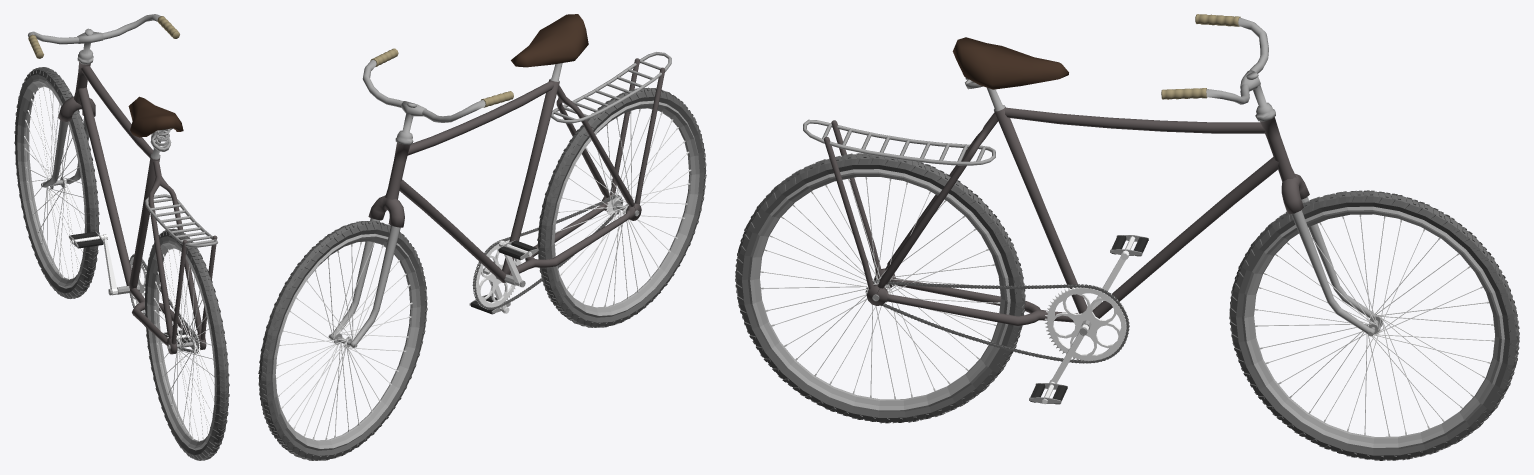
Rendered from bicycle_01.glb.
3 views of the same model, side by side, from view 1: azimuth 30°, elevation 25°; view 2: azimuth 150°, elevation 25°; view 3: azimuth 270°, elevation 25° (orthographic). The views are drawn at different scales.
Parts seen in each view (by area): view 1: Bicycle-Body, Bicycle-Front-Tire-Ring, Bicycle-Back-Tire, Bicycle-Back-Tire-Ring, Bicycle-Front-Tire, Bicycle-Back-Tire-Pattern, Bicycle-Front-Tire-Pattern, Bicycle-Seat, Bicycle-Tark, Bicycle-HandleBars, Bicycle-Left-Front-Spokes-Mesh1, Bicycle-Left-Front-Spokes-Mesh2 (+12 smaller); view 2: Bicycle-Body, Bicycle-Front-Tire, Bicycle-Back-Tire, Bicycle-Front-Tire-Ring, Bicycle-Back-Tire-Ring, Bicycle-Seat, Bicycle-Front-Tire-Pattern, Bicycle-Back-Tire-Pattern, Bicycle-Tark, Bicycle-HandleBars, Bicycle-Left-Front-Spokes-Mesh2, Bicycle-Chain (+9 smaller); view 3: Bicycle-Body, Bicycle-Front-Tire, Bicycle-Back-Tire, Bicycle-Front-Tire-Ring, Bicycle-Back-Tire-Ring, Bicycle-Seat, Bicycle-Front-Tire-Pattern, Bicycle-Back-Tire-Pattern, Bicycle-Center-Gear, Bicycle-Tark, Bicycle-HandleBars, Bicycle-Chain (+9 smaller).
Part boxes in pixels (x1,y1,x2,y2): Bicycle-Body: (42,28,217,354); Bicycle-Front-Tire-Ring: (17,78,86,288); Bicycle-Back-Tire: (145,229,228,460); Bicycle-Back-Tire-Ring: (147,240,216,450); Bicycle-Front-Tire: (15,67,98,298); Bicycle-Back-Tire-Pattern: (144,228,229,460); Bicycle-Front-Tire-Pattern: (14,67,99,298); Bicycle-Seat: (128,96,183,151); Bicycle-Tark: (145,194,217,247); Bicycle-HandleBars: (28,14,179,58); Bicycle-Left-Front-Spokes-Mesh1: (25,87,84,278); Bicycle-Left-Front-Spokes-Mesh2: (24,92,83,279); Bicycle-Body: (329,58,665,347); Bicycle-Front-Tire: (259,221,427,460); Bicycle-Back-Tire: (538,88,705,327); Bicycle-Front-Tire-Ring: (272,234,420,450); Bicycle-Back-Tire-Ring: (551,100,699,317); Bicycle-Seat: (511,14,588,67); Bicycle-Front-Tire-Pattern: (258,221,427,460); Bicycle-Back-Tire-Pattern: (537,87,706,327); Bicycle-Tark: (551,52,671,123); Bicycle-HandleBars: (362,48,513,122); Bicycle-Left-Front-Spokes-Mesh2: (276,245,410,440); Bicycle-Chain: (472,195,623,309); Bicycle-Body: (823,72,1380,336); Bicycle-Front-Tire: (1229,191,1519,459); Bicycle-Back-Tire: (735,154,1025,422); Bicycle-Front-Tire-Ring: (1242,206,1504,449); Bicycle-Back-Tire-Ring: (748,169,1010,411); Bicycle-Seat: (952,37,1068,89); Bicycle-Front-Tire-Pattern: (1229,190,1519,460); Bicycle-Back-Tire-Pattern: (735,153,1025,423); Bicycle-Center-Gear: (1048,288,1125,360); Bicycle-Tark: (803,119,995,165); Bicycle-HandleBars: (1161,14,1268,104); Bicycle-Chain: (865,280,1129,363).
Bounding box in the file's own units: 3.81 × 8.68 × 15.52.
